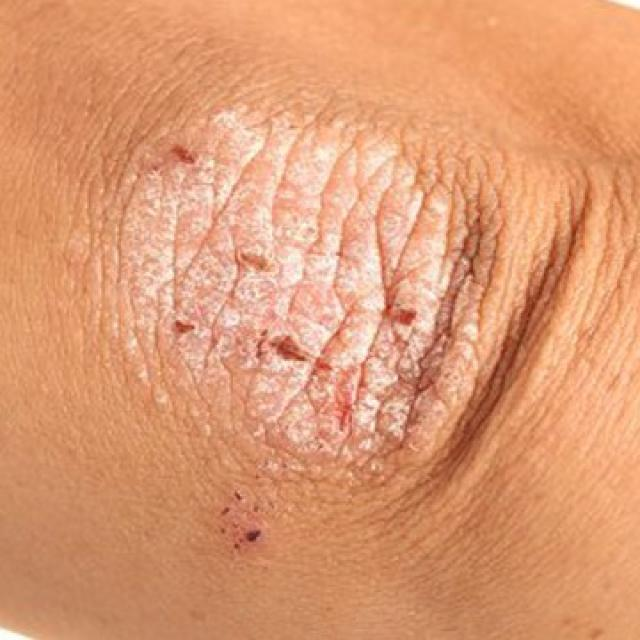Psoriasis: (91, 91, 537, 585)
